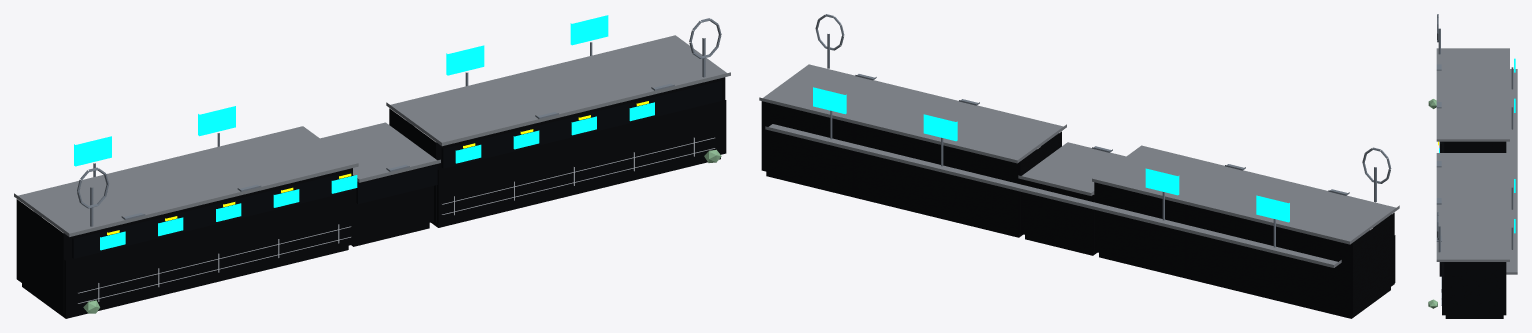
The model's file is v2_rally_desk.glb.
3 renders of one model, left to right at view 1: azimuth 30°, elevation 25°; view 2: azimuth 150°, elevation 25°; view 3: azimuth 270°, elevation 25°, orthographic. The views are drawn at different scales.
Parts seen in each view (by area): view 1: Desk_Body_L, Desk_Body_R, Desk_Top_R, Desk_Top_L, Score_Front, Desk_Top_A, Desk_Body_A, Staff_Screens, Score_Cells, Net_Kick, Racket_Upright; view 2: Desk_Body_L, Desk_Body_R, Desk_Top_R, Desk_Top_L, Staff_Ledge, Desk_Body_A, Desk_Top_A, Staff_Screens, Racket_Upright; view 3: Desk_Top_L, Desk_Top_R, Desk_Body_R, Staff_Ledge, Desk_Top_A, Desk_Body_L, Staff_Monitor_Arms, Racket_Upright, End_Tufts, Ticket_Pads, Staff_Screens.
Part boxes in pixels (left/top/right/bottom): Desk_Body_L: left=16, top=168, right=353, bottom=318; Desk_Body_R: left=389, top=77, right=726, bottom=227; Desk_Top_R: left=386, top=35, right=730, bottom=146; Desk_Top_L: left=14, top=126, right=358, bottom=236; Score_Front: left=72, top=81, right=721, bottom=258; Desk_Top_A: left=320, top=122, right=440, bottom=182; Desk_Body_A: left=351, top=164, right=433, bottom=246; Staff_Screens: left=74, top=15, right=608, bottom=166; Score_Cells: left=100, top=102, right=654, bottom=250; Net_Kick: left=77, top=137, right=715, bottom=303; Racket_Upright: left=77, top=18, right=721, bottom=226; Desk_Body_L: left=1094, top=182, right=1395, bottom=318; Desk_Body_R: left=761, top=101, right=1061, bottom=237; Desk_Top_R: left=759, top=64, right=1066, bottom=163; Desk_Top_L: left=1092, top=145, right=1399, bottom=244; Staff_Ledge: left=765, top=124, right=1341, bottom=267; Desk_Body_A: left=1020, top=179, right=1097, bottom=255; Desk_Top_A: left=1018, top=142, right=1125, bottom=195; Staff_Screens: left=813, top=87, right=1289, bottom=222; Racket_Upright: left=815, top=14, right=1391, bottom=202; Desk_Top_L: left=1436, top=48, right=1509, bottom=141; Desk_Top_R: left=1436, top=168, right=1509, bottom=261; Desk_Body_R: left=1442, top=262, right=1506, bottom=318; Staff_Ledge: left=1506, top=69, right=1517, bottom=274; Desk_Top_A: left=1436, top=153, right=1509, bottom=168; Desk_Body_L: left=1442, top=141, right=1506, bottom=152; Staff_Monitor_Arms: left=1511, top=67, right=1513, bottom=249; Racket_Upright: left=1437, top=14, right=1440, bottom=252; End_Tufts: left=1428, top=99, right=1437, bottom=308; Ticket_Pads: left=1436, top=64, right=1441, bottom=241; Staff_Screens: left=1514, top=58, right=1515, bottom=233.
Size of what is drawn, in the model's own units: 8 by 1.72 by 1.41.
Materials: 8 (4 with a texture image).
